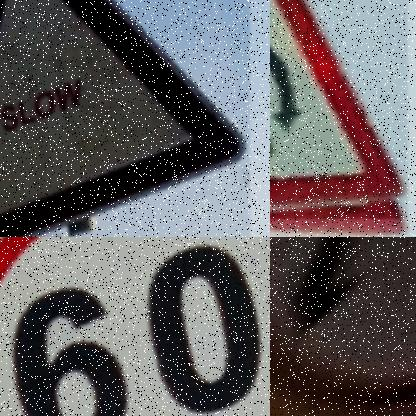Road Divides: (270, 237, 416, 416)
Roundabout Ahead: (270, 0, 408, 213)
Speed Limit -60 kmph-: (0, 237, 270, 416)
